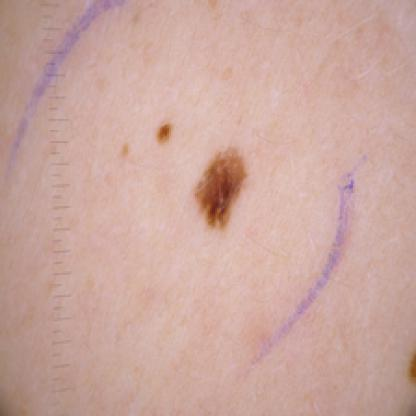benign: (110, 115, 266, 238)
